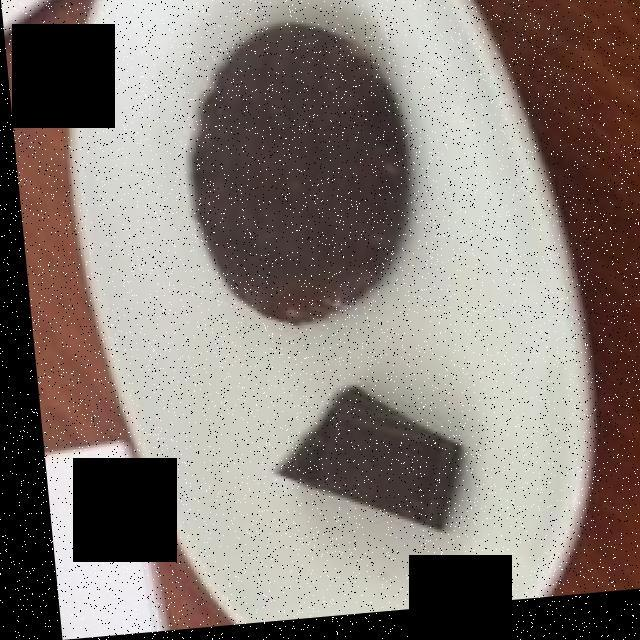chocolate: (267, 398, 446, 533)
cookies: (185, 38, 399, 323)
